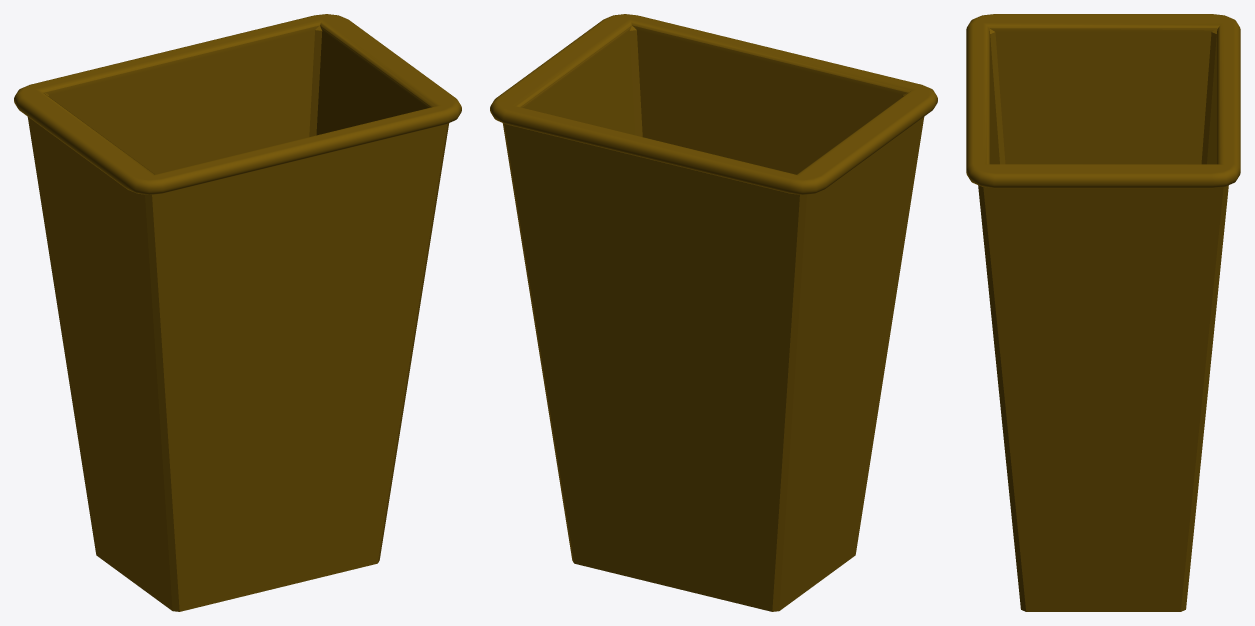
Rendered from IndoorBin_Brown.fbx.
The picture shows the model from 3 angles, left to right: view 1: azimuth 30°, elevation 25°; view 2: azimuth 150°, elevation 25°; view 3: azimuth 270°, elevation 25°; orthographic projection.
Parts seen in each view (by area): view 1: pCube3; view 2: pCube3; view 3: pCube3.
Boxes of the visible parts, x1=… form: pCube3: x1=14, y1=14, x2=461, y2=611; pCube3: x1=490, y1=14, x2=937, y2=611; pCube3: x1=966, y1=14, x2=1240, y2=611.
Size of the model in its own units: 1.09 by 1.44 by 0.7675.
